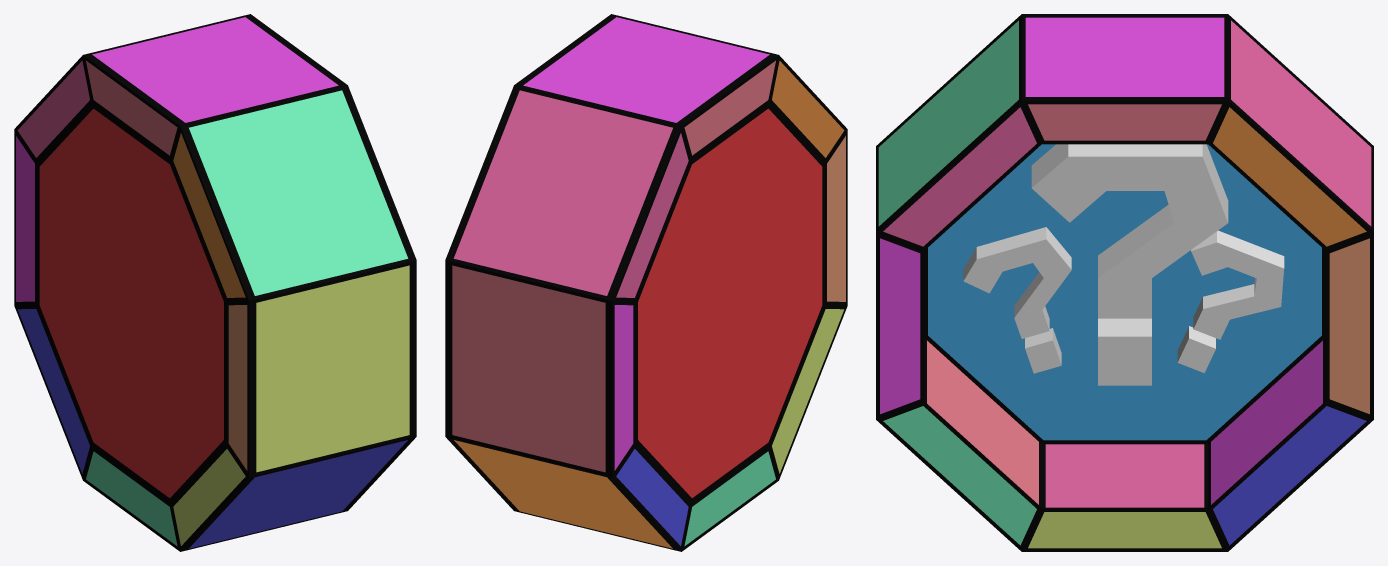
File: PowerUpV2.fbx
3 renders of one model, left to right at view 1: azimuth 30°, elevation 25°; view 2: azimuth 150°, elevation 25°; view 3: azimuth 270°, elevation 25°, orthographic. The views are drawn at different scales.
Parts seen in each view (by area): view 1: Cylinder; view 2: Cylinder; view 3: Cylinder, Cube.031.
Part boxes in pixels (left/top/right/bottom): Cylinder: left=14, top=14, right=416, bottom=551; Cylinder: left=445, top=14, right=847, bottom=551; Cylinder: left=876, top=14, right=1373, bottom=551; Cube.031: left=963, top=144, right=1284, bottom=385.
Bounding box in the file's own units: 76.09 × 185 × 185.
